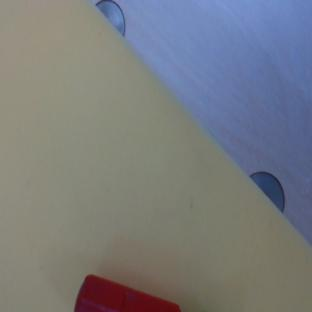part_2_good: (74, 274, 180, 311)
